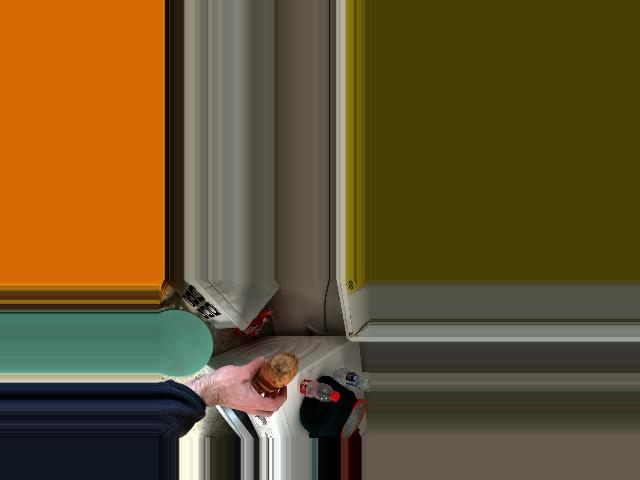sweet_potato: (251, 353, 299, 392)
